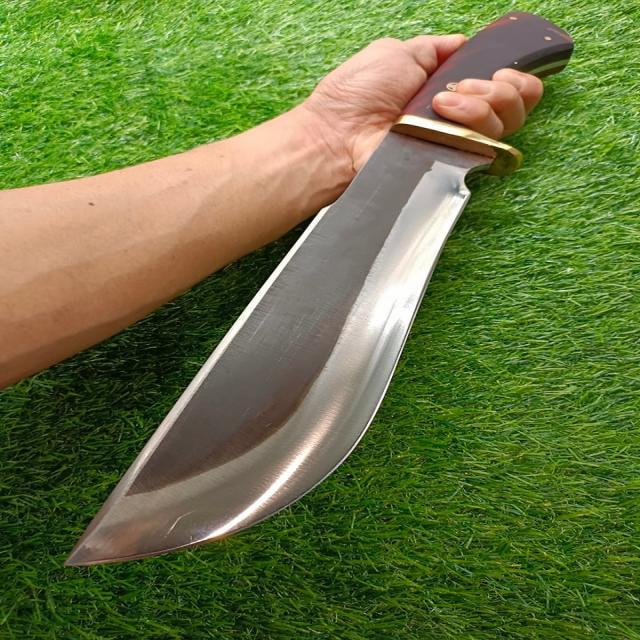eto: (46, 4, 602, 585)
